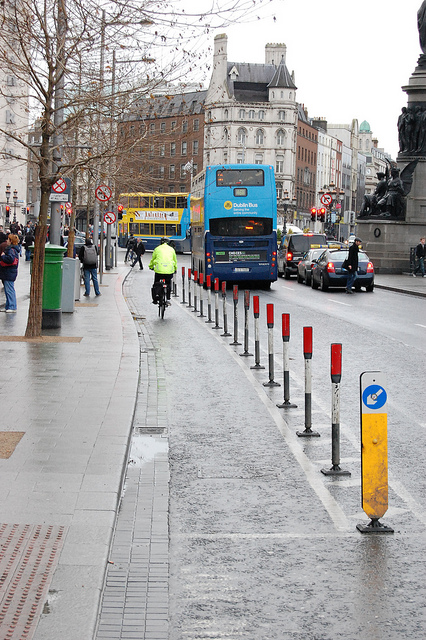Bus: (186, 172, 281, 292), (119, 190, 188, 250)
Keep Left: (356, 369, 393, 528)
